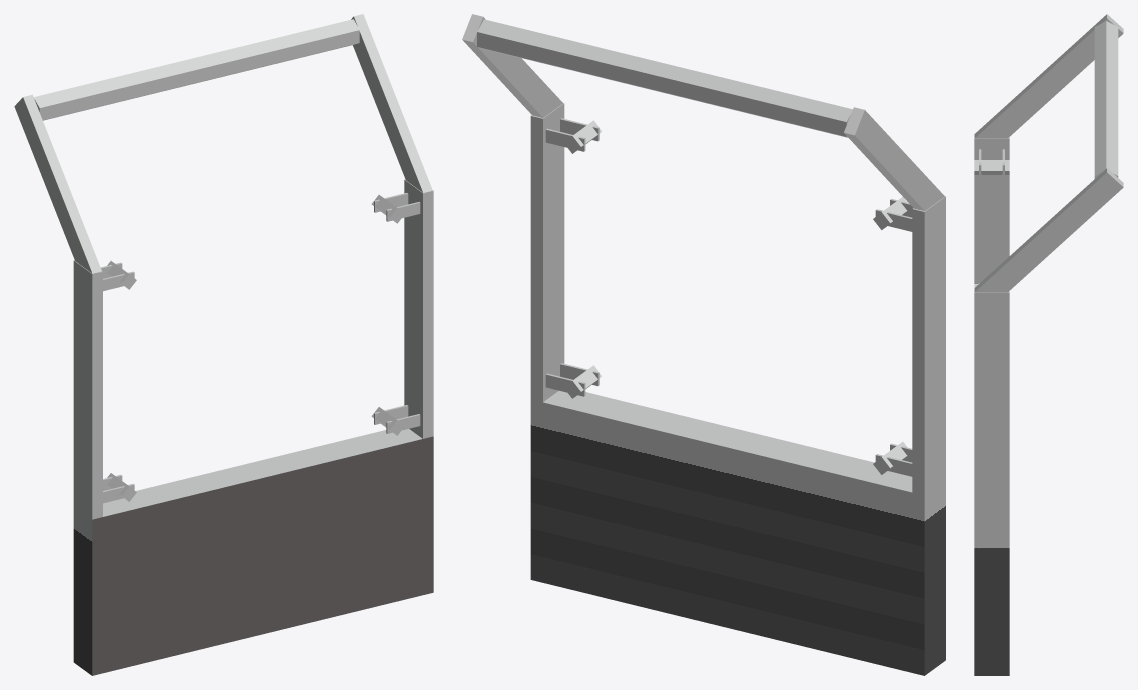
File: electric_fence_wall_center.obj
3 renders of one model, left to right at view 1: azimuth 30°, elevation 25°; view 2: azimuth 150°, elevation 25°; view 3: azimuth 270°, elevation 25°, orthographic. The views are drawn at different scales.
Parts seen in each view (by area): view 1: wall_c; view 2: wall_c; view 3: wall_c.
Boxes of the visible parts, x1,y1,x2,y2 form: wall_c: [14, 14, 433, 675]; wall_c: [462, 14, 945, 675]; wall_c: [974, 14, 1123, 675].
Size of the model in its own units: 1 by 1.48 by 0.3977.
